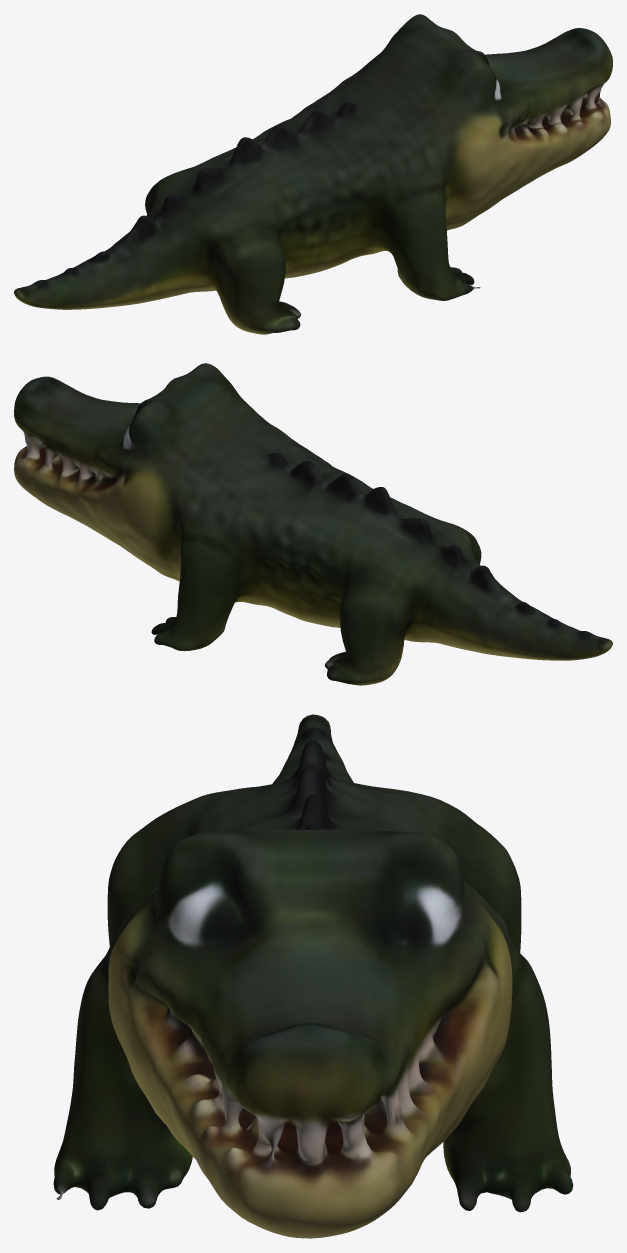
File: croc.glb
The picture shows the model from 3 angles, top to bottom: view 1: azimuth 30°, elevation 25°; view 2: azimuth 150°, elevation 25°; view 3: azimuth 270°, elevation 25°; orthographic projection. The views are drawn at different scales.
Parts seen in each view (by area): view 1: world; view 2: world; view 3: world.
Boxes of the visible parts, x1=… form: world: x1=14, y1=14, x2=612, y2=334; world: x1=14, y1=363, x2=612, y2=685; world: x1=53, y1=714, x2=573, y2=1238.
Bounding box in the file's own units: 0.5977 × 0.2082 × 0.2282.
1 material, 1 textured.
